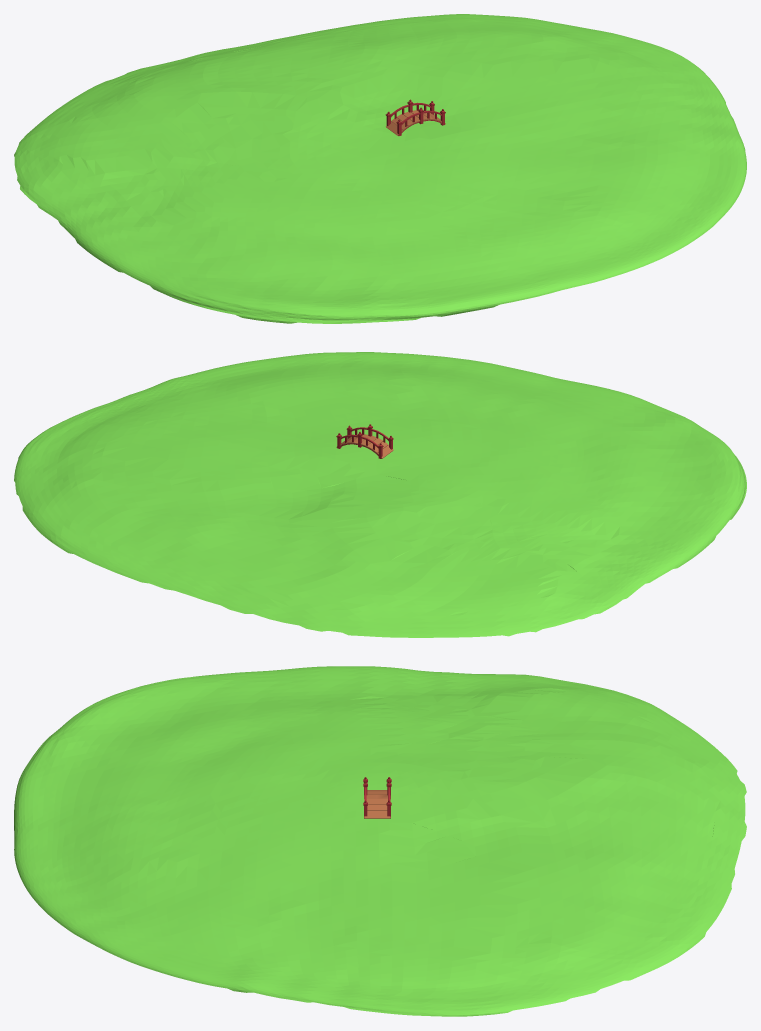
File: TestScene.gltf
The picture shows the model from 3 angles, top to bottom: view 1: azimuth 30°, elevation 25°; view 2: azimuth 150°, elevation 25°; view 3: azimuth 270°, elevation 25°; orthographic projection. The views are drawn at different scales.
Visible parts, largest first — view 1: Island, Bridge; view 2: Island, Bridge; view 3: Island, Bridge.
Boxes of the visible parts, box(x1,y1,x2,y2) form: Island: box(14, 14, 746, 323); Bridge: box(385, 99, 445, 135); Island: box(14, 352, 746, 637); Bridge: box(336, 424, 393, 458); Island: box(14, 666, 746, 1016); Bridge: box(363, 777, 391, 818).
Size of what is drawn, in the model's own units: 61.63 by 5.65 by 55.01.
2 materials, 1 textured.
